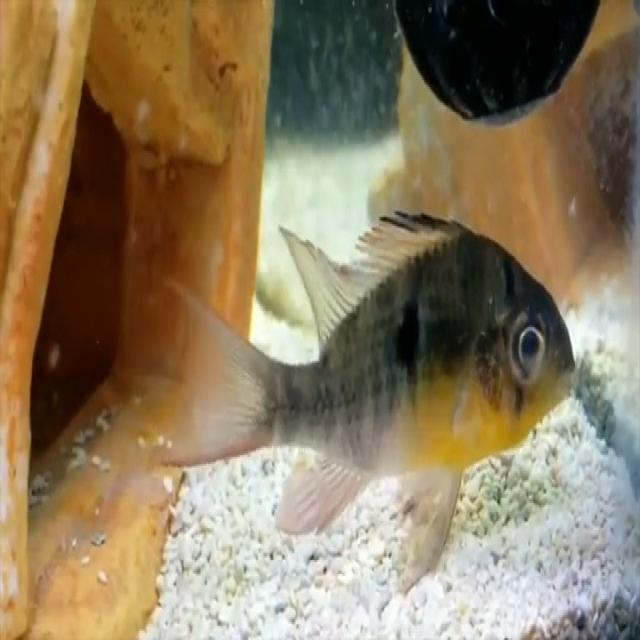fish: (158, 204, 579, 569)
